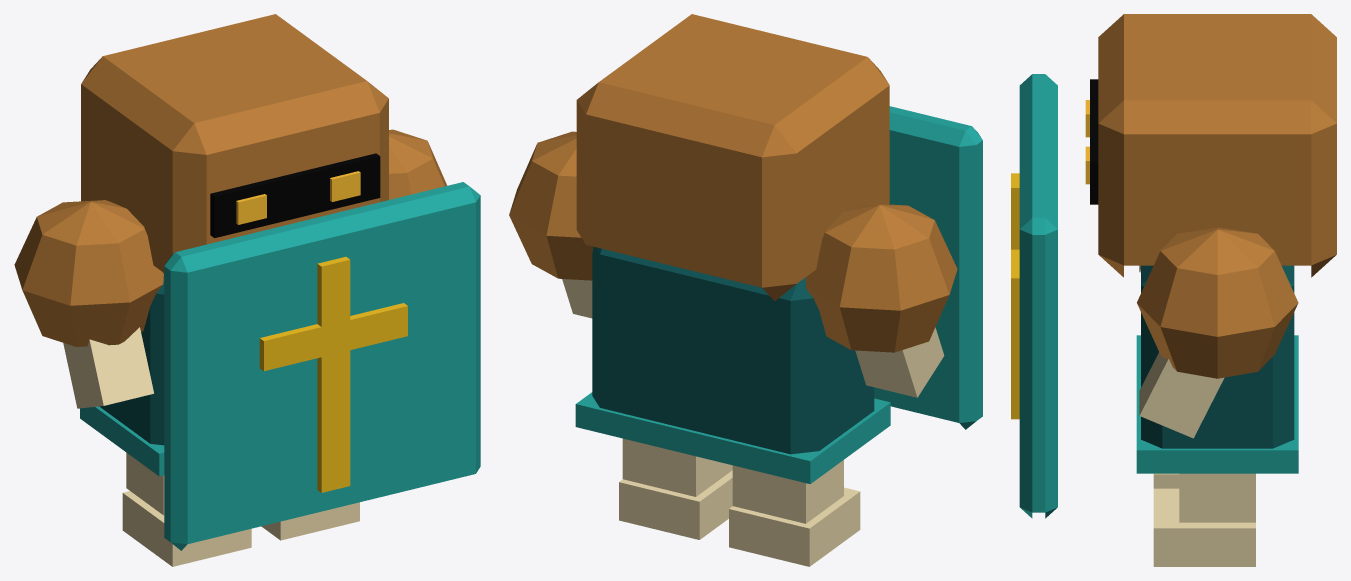
File: brute_r5.glb
3 renders of one model, left to right at view 1: azimuth 30°, elevation 25°; view 2: azimuth 150°, elevation 25°; view 3: azimuth 270°, elevation 25°, orthographic. The views are drawn at different scales.
Visible parts, largest first — view 1: brute_r5_mesh; view 2: brute_r5_mesh; view 3: brute_r5_mesh.
Part boxes in pixels (box(x1,y1,x2,y2)): brute_r5_mesh: box(14, 14, 480, 566); brute_r5_mesh: box(509, 14, 982, 566); brute_r5_mesh: box(1011, 14, 1336, 566).
Bounding box in the file's own units: 2.16 × 2.2 × 1.4.
1 material, 1 textured.
